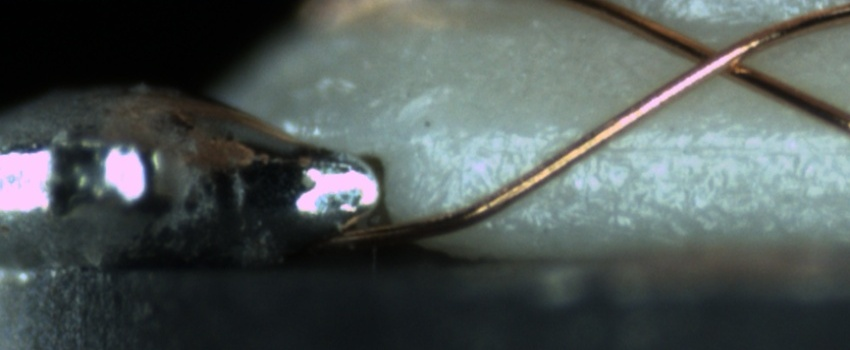CL: (666, 27, 764, 87)
DL: (461, 112, 850, 176)
